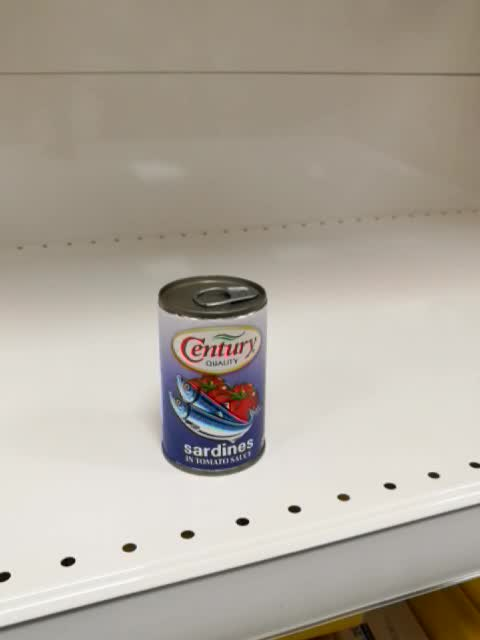sardine: (157, 271, 268, 477)
